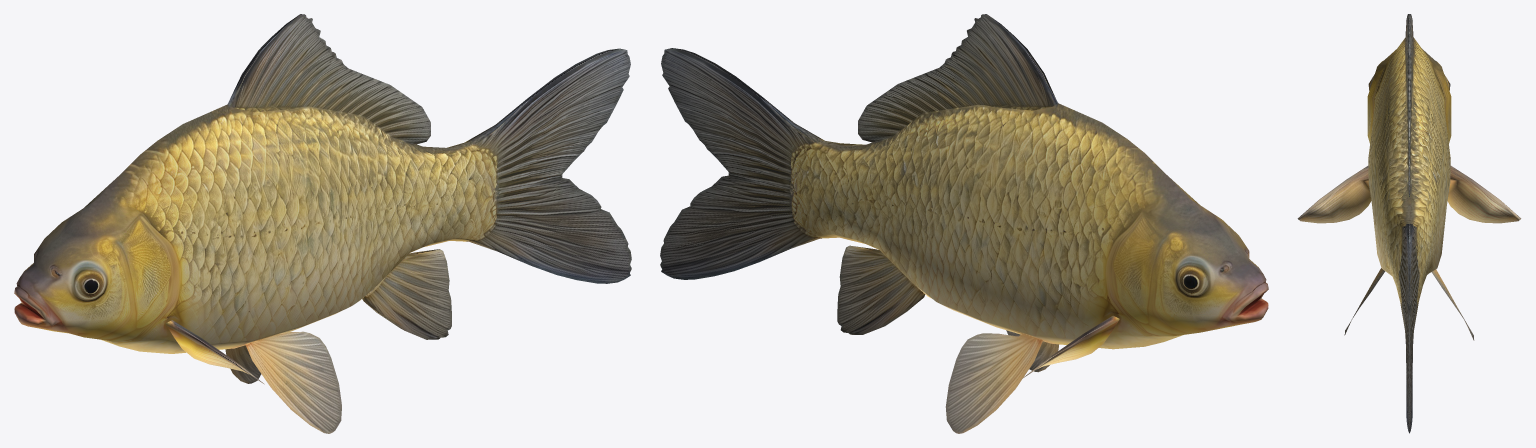
The model's file is bungeo.glb.
3 renders of one model, left to right at view 1: azimuth 30°, elevation 25°; view 2: azimuth 150°, elevation 25°; view 3: azimuth 270°, elevation 25°, orthographic. The views are drawn at different scales.
Parts seen in each view (by area): view 1: tripo_node_49f9c6c5-8f29-4567-9d29-44894f31d449; view 2: tripo_node_49f9c6c5-8f29-4567-9d29-44894f31d449; view 3: tripo_node_49f9c6c5-8f29-4567-9d29-44894f31d449.
Part boxes in pixels (x1,y1,x2,y2): tripo_node_49f9c6c5-8f29-4567-9d29-44894f31d449: (14,14,631,433); tripo_node_49f9c6c5-8f29-4567-9d29-44894f31d449: (660,14,1268,433); tripo_node_49f9c6c5-8f29-4567-9d29-44894f31d449: (1297,14,1521,433).
Size of the model in its own units: 0.9995 by 0.6147 by 0.3784.
Materials: 1 (1 with a texture image).
